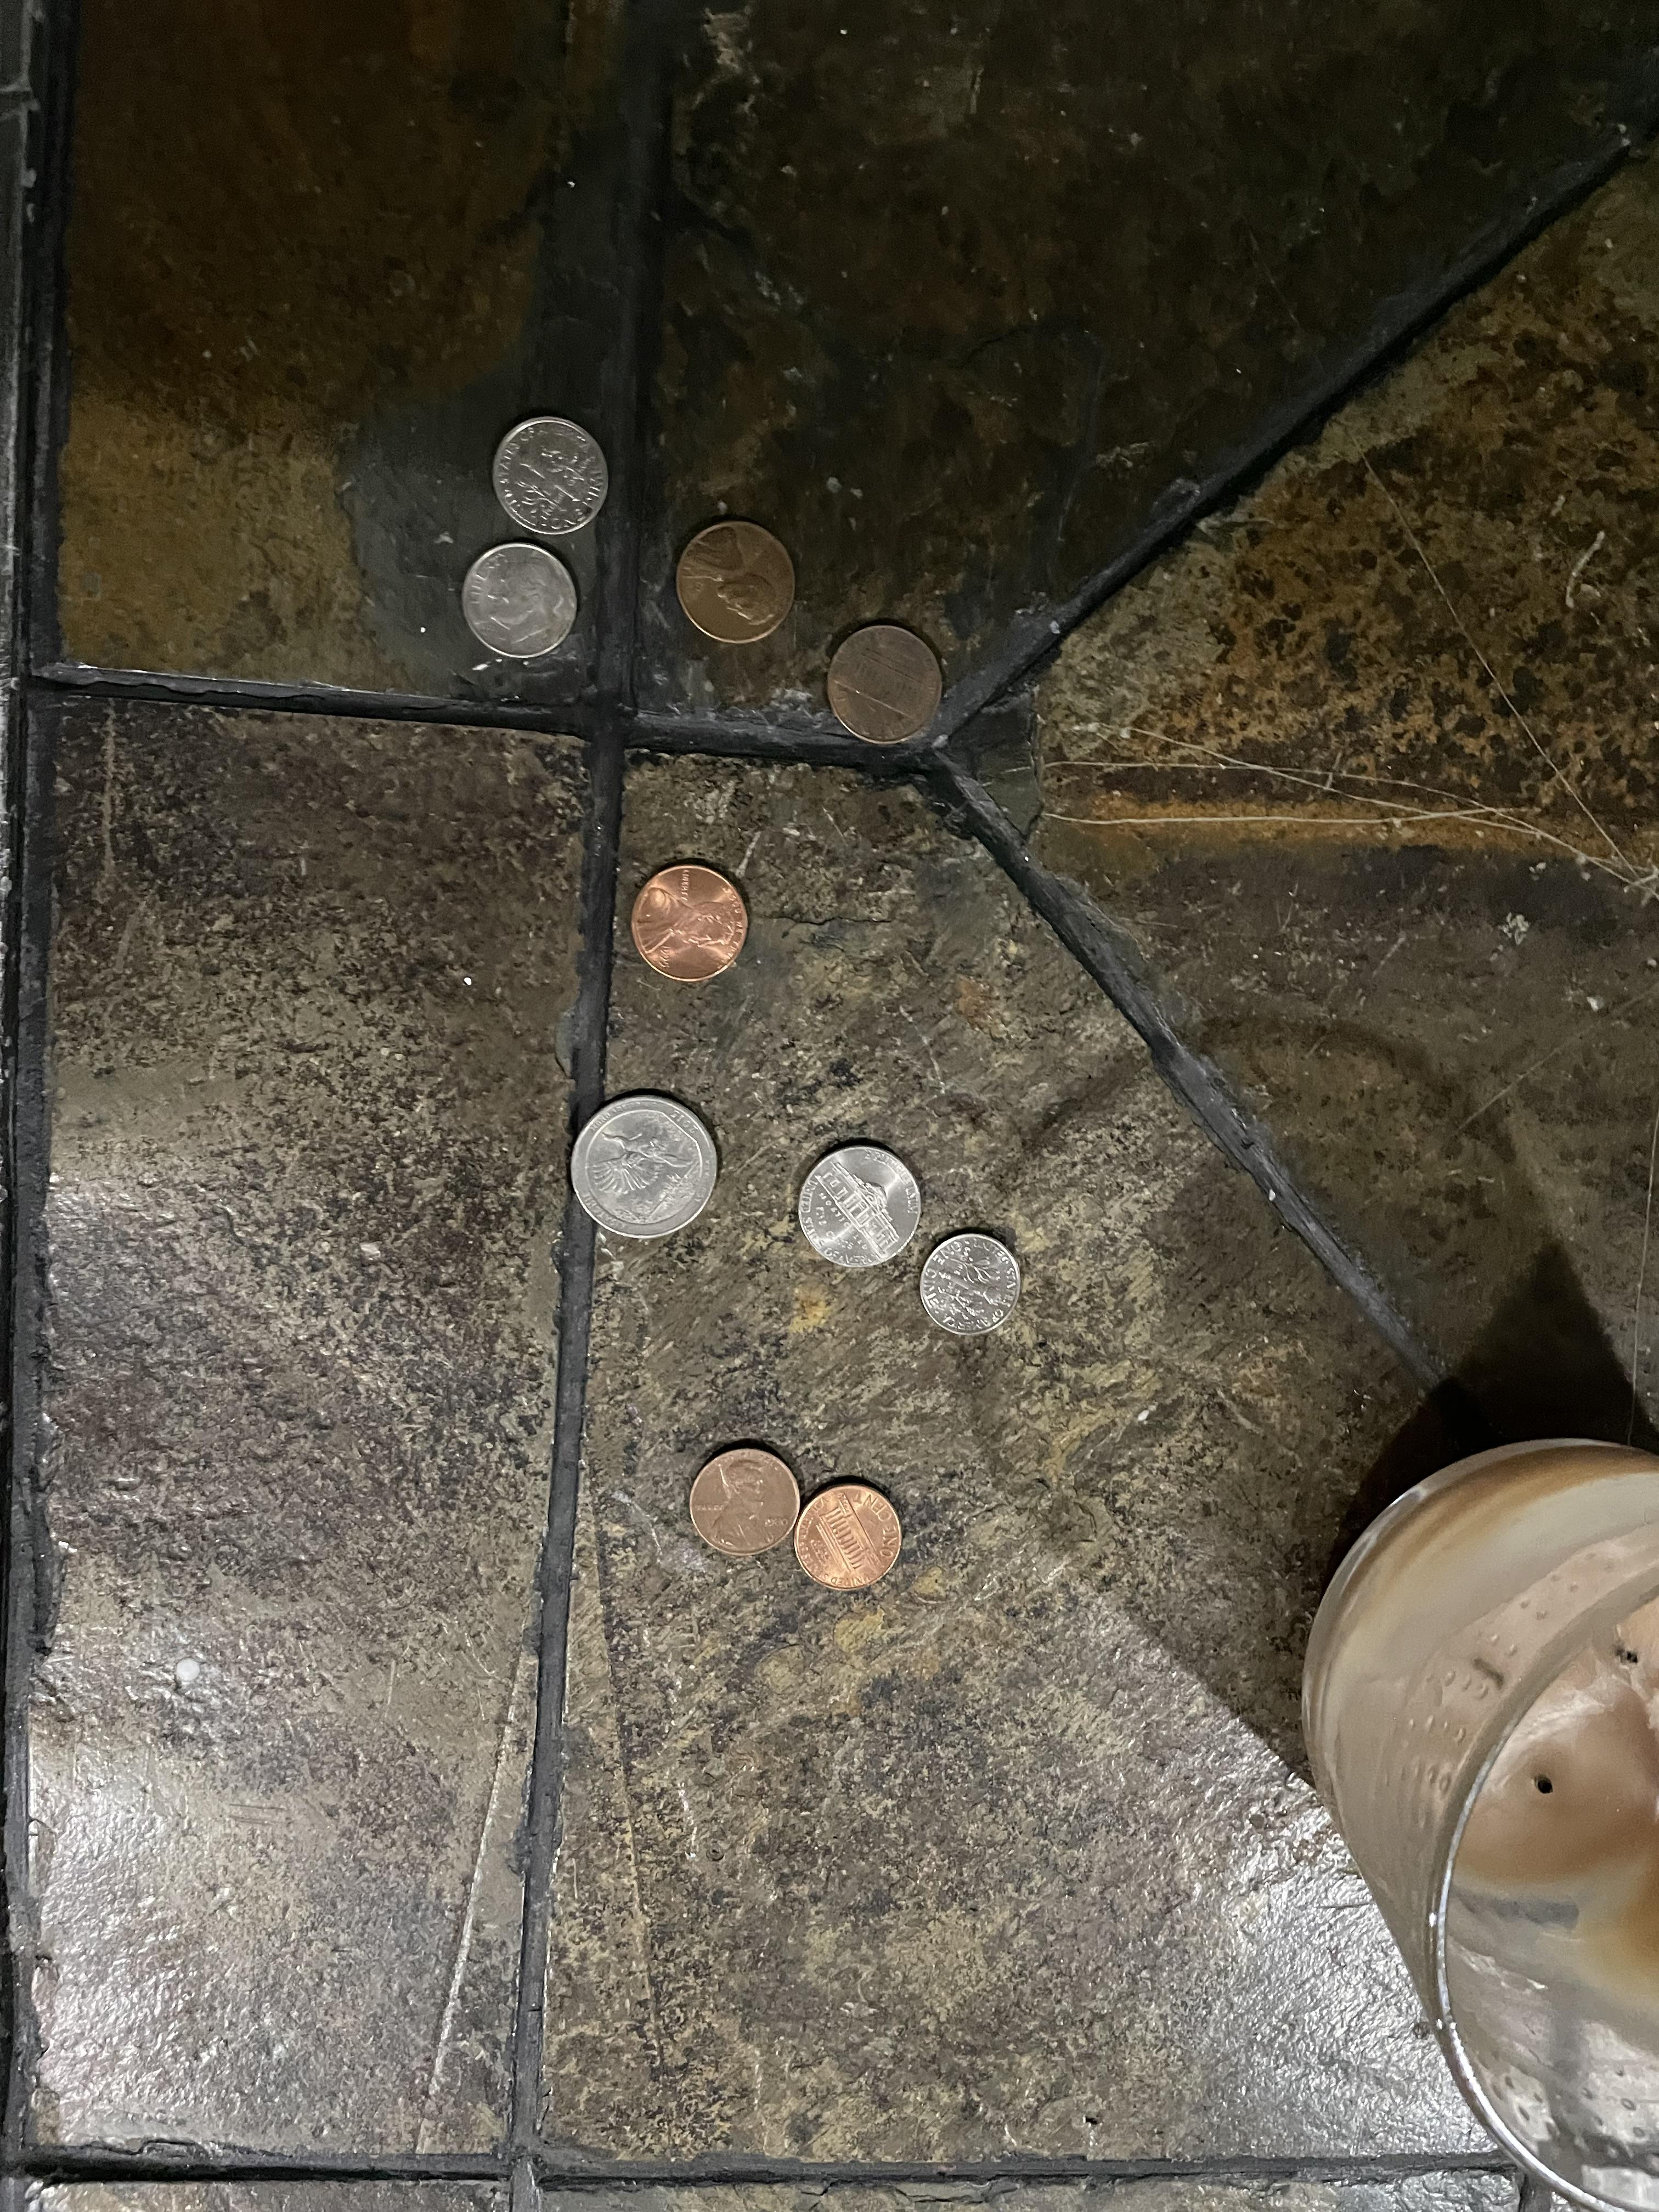Dime: (469, 387, 613, 540), (443, 531, 591, 672), (908, 1211, 1032, 1359)
Nickel: (786, 1137, 932, 1280)
Penny: (610, 848, 751, 1015), (669, 514, 812, 678), (666, 1423, 800, 1588), (816, 608, 953, 761), (788, 1477, 913, 1609)
Quarter: (551, 1071, 728, 1294)
